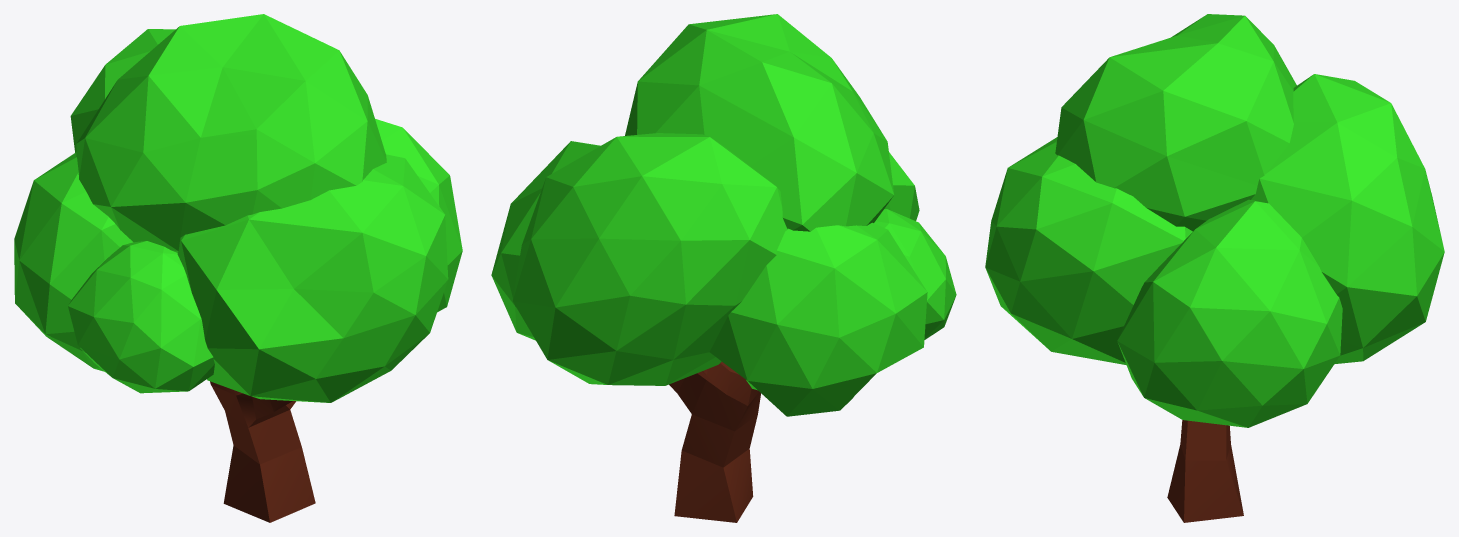
Rendered from BigTree.dae.
The picture shows the model from 3 angles, left to right: view 1: azimuth 30°, elevation 25°; view 2: azimuth 150°, elevation 25°; view 3: azimuth 270°, elevation 25°; orthographic projection. The views are drawn at different scales.
Parts seen in each view (by area): view 1: OakTree3; view 2: OakTree3; view 3: OakTree3.
Part boxes in pixels (bbox=[...]): OakTree3: bbox=[14, 14, 462, 522]; OakTree3: bbox=[491, 14, 956, 522]; OakTree3: bbox=[985, 14, 1444, 522].
Bounding box in the file's own units: 13.82 × 14.23 × 15.84.
